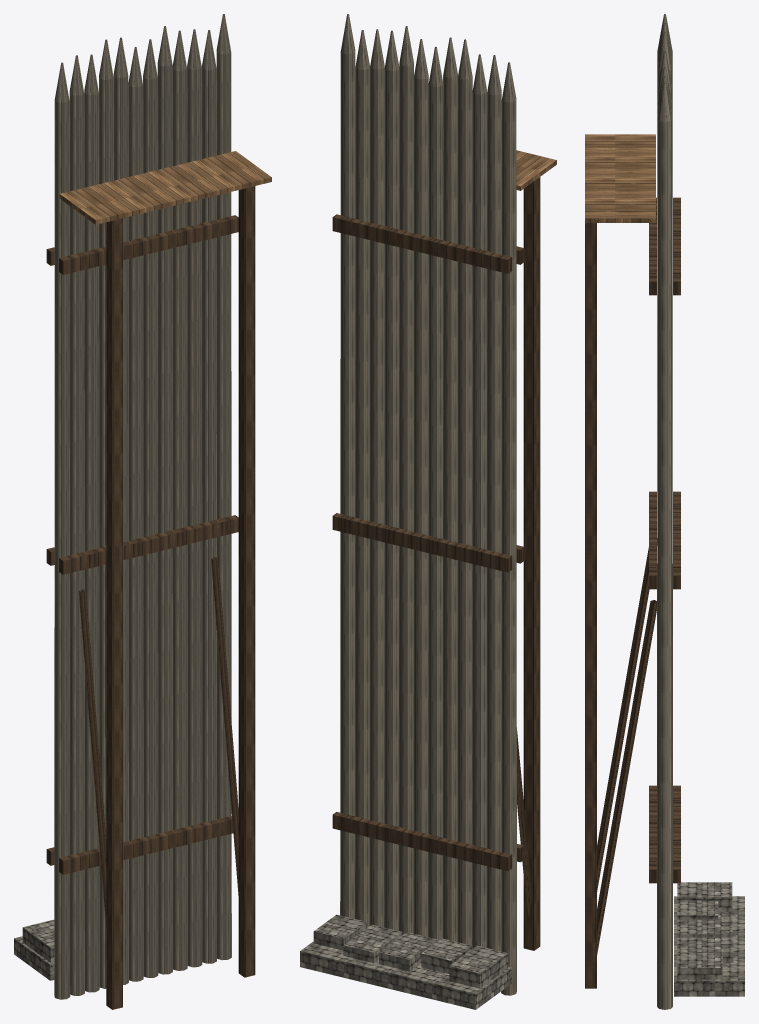
The model's file is Rampart_Wood_1.gltf.
The picture shows the model from 3 angles, left to right: view 1: azimuth 30°, elevation 25°; view 2: azimuth 150°, elevation 25°; view 3: azimuth 270°, elevation 25°; orthographic projection. The views are drawn at different scales.
Visible parts, largest first — view 1: Rampart_Wood_1; view 2: Rampart_Wood_1; view 3: Rampart_Wood_1.
Boxes of the visible parts, bbox=[...] form: Rampart_Wood_1: bbox=[14, 14, 271, 1009]; Rampart_Wood_1: bbox=[300, 14, 556, 1009]; Rampart_Wood_1: bbox=[585, 14, 744, 1009].
Size of the model in its own units: 4 by 20.49 by 3.2.
Materials: 4 (4 with a texture image).
